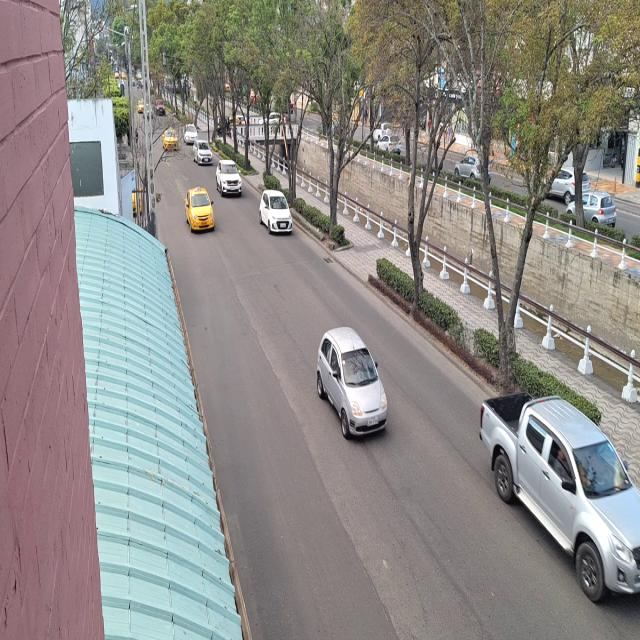CMT: (479, 393, 638, 601)
SED: (319, 333, 389, 438), (181, 178, 216, 237), (260, 189, 292, 234), (191, 136, 214, 169)
SUV: (215, 160, 241, 195)
